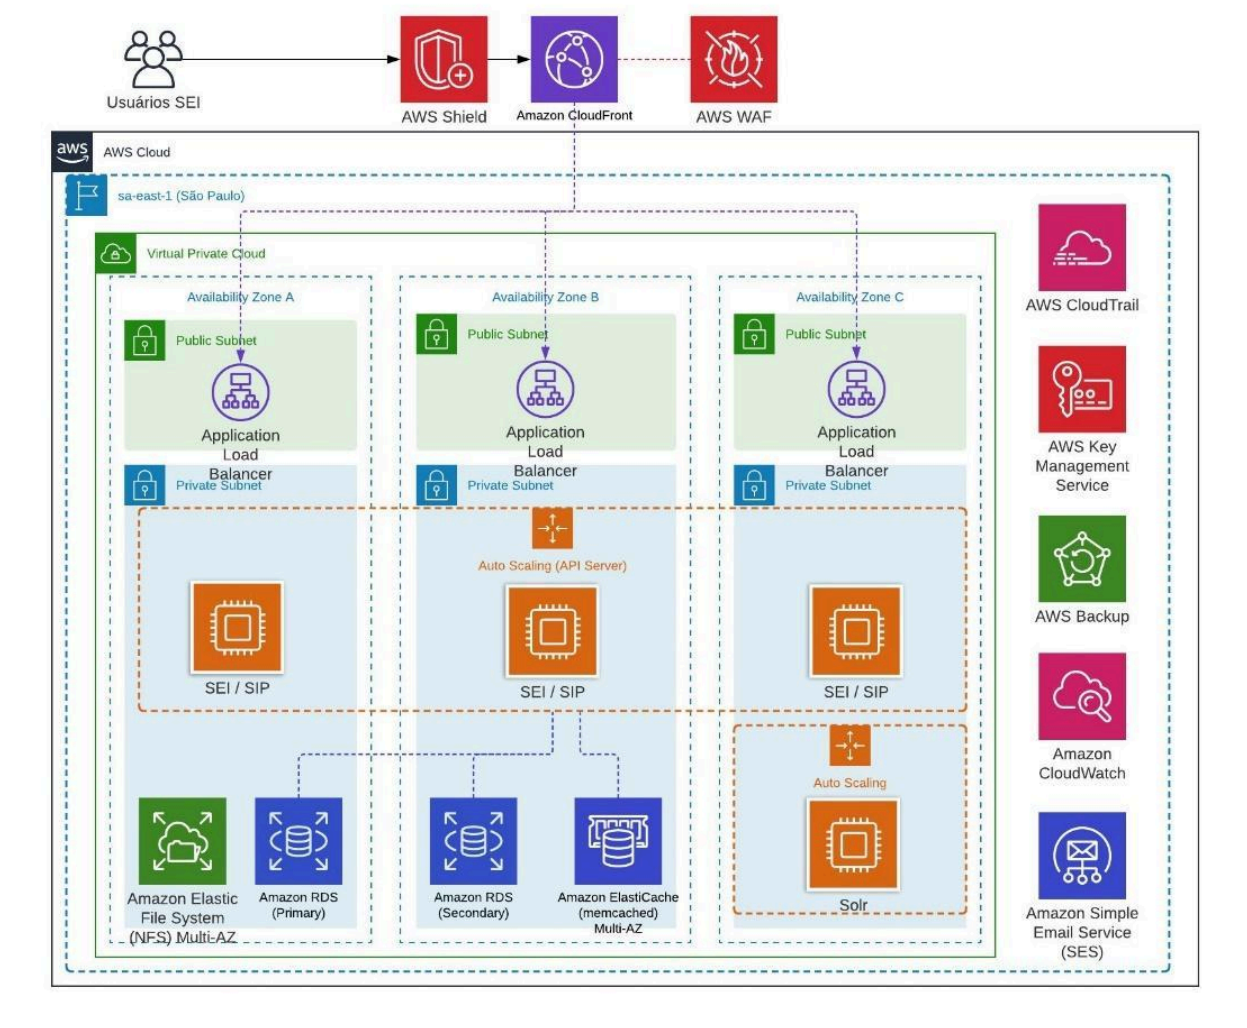aws_application_load_balancer: (207, 361, 272, 421), (511, 358, 576, 418), (823, 358, 888, 418)
aws_autoscaling: (830, 724, 869, 764), (532, 507, 571, 548)
aws_backup: (1039, 513, 1124, 601)
aws_cloud: (48, 130, 92, 168)
aws_cloud_trail: (1039, 202, 1124, 289)
aws_cloudfront: (528, 14, 617, 102)
aws_cloudwatch: (1039, 655, 1123, 740)
aws_elactic_file_system(nfs)_multi-az: (140, 797, 225, 885)
aws_elasticache: (572, 800, 661, 886)
aws_key_management_service: (1037, 345, 1126, 434)
aws_private_subnet: (733, 464, 773, 508), (417, 463, 457, 504), (124, 464, 164, 504)
aws_public_subnet: (398, 12, 487, 104), (122, 318, 165, 361), (415, 312, 456, 355), (734, 313, 772, 353)
aws_rds: (257, 798, 342, 881), (431, 798, 516, 881)
aws_region: (64, 173, 108, 215)
aws_simple_email_service: (1038, 812, 1126, 901)
aws_virtual_private_cloud: (95, 233, 137, 274)
aws_waf: (684, 11, 779, 105)
sei/sip: (809, 583, 900, 675), (191, 580, 282, 672), (505, 583, 596, 675)
solr: (809, 798, 895, 884)
user: (115, 25, 189, 89)
